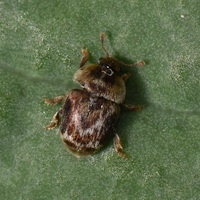insect: (42, 33, 144, 156), (44, 33, 144, 156)
